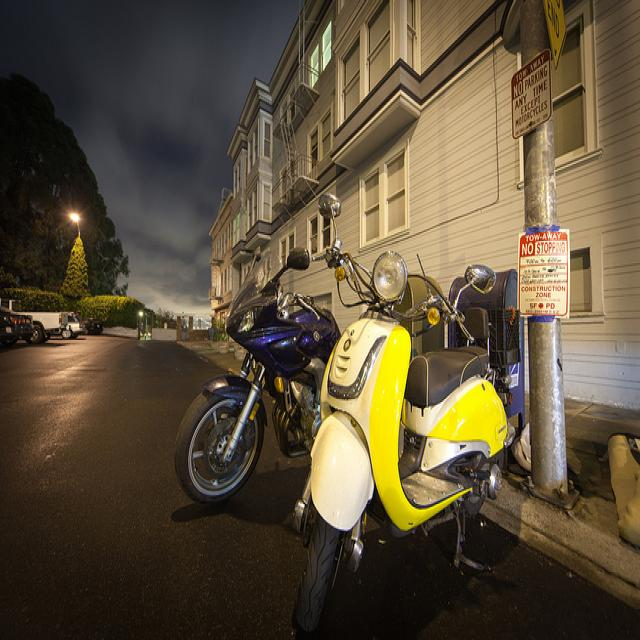motor: (288, 188, 524, 640), (175, 239, 337, 512)
